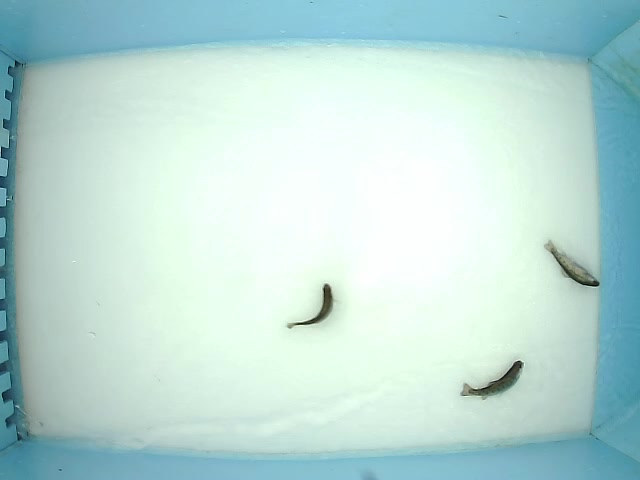fish: (543, 238, 601, 288), (459, 359, 526, 401), (285, 281, 339, 330)
